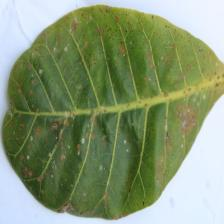red rust: (1, 4, 224, 219)
